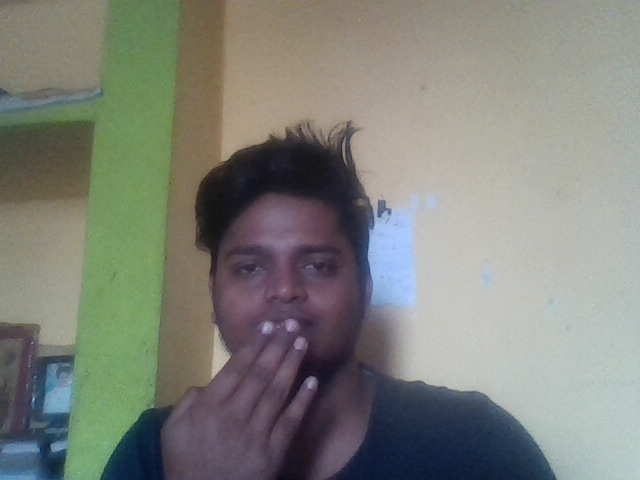thanks: (110, 302, 390, 480)
